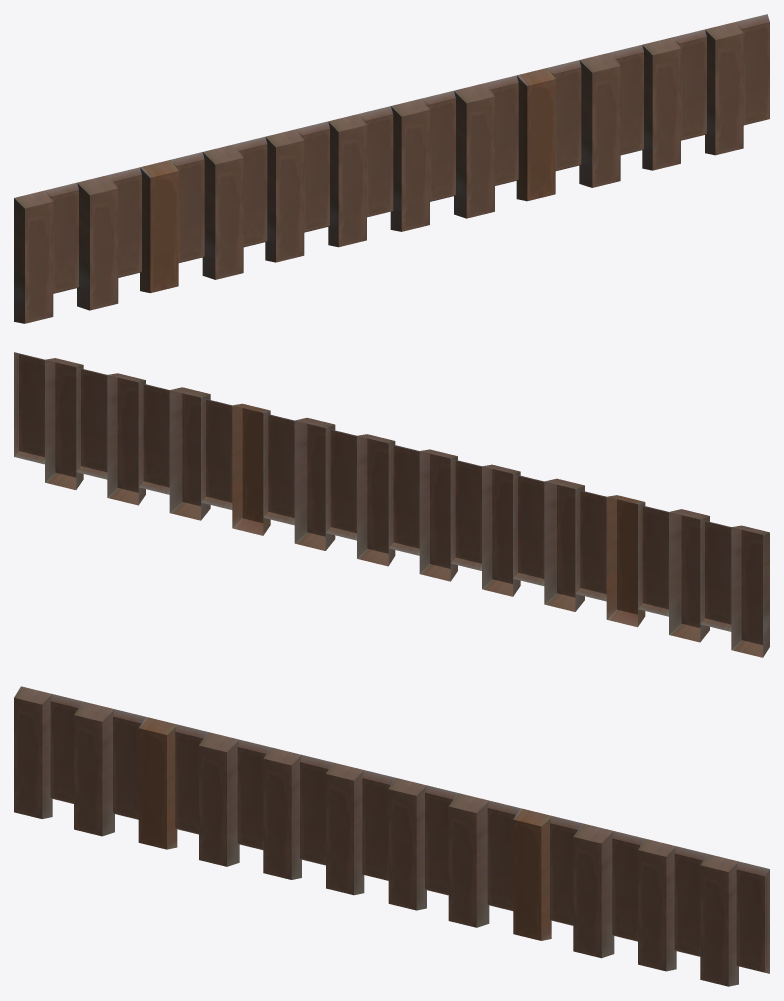
The model's file is Brick_Ornament_Horizontal.gltf.
3 renders of one model, top to bottom at view 1: azimuth 30°, elevation 25°; view 2: azimuth 150°, elevation 25°; view 3: azimuth 330°, elevation 25°, orthographic.
Visible parts, largest first — view 1: Brick_Ornament_Horizontal; view 2: Brick_Ornament_Horizontal; view 3: Brick_Ornament_Horizontal.
Boxes of the visible parts, x1,y1,x2,y2 form: Brick_Ornament_Horizontal: [14, 14, 769, 323]; Brick_Ornament_Horizontal: [14, 352, 769, 657]; Brick_Ornament_Horizontal: [14, 686, 769, 986].
Bounding box in the file's own units: 2 × 0.314 × 0.0514.
Materials: 1 (1 with a texture image).
